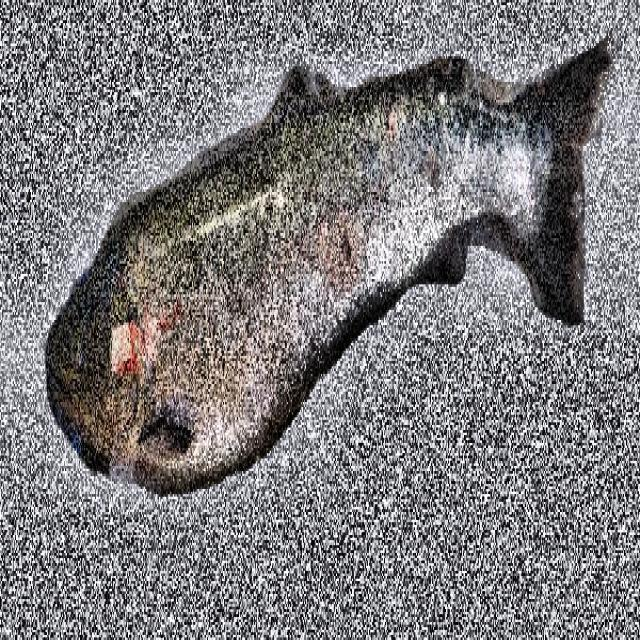mild_red: (100, 59, 549, 489)
